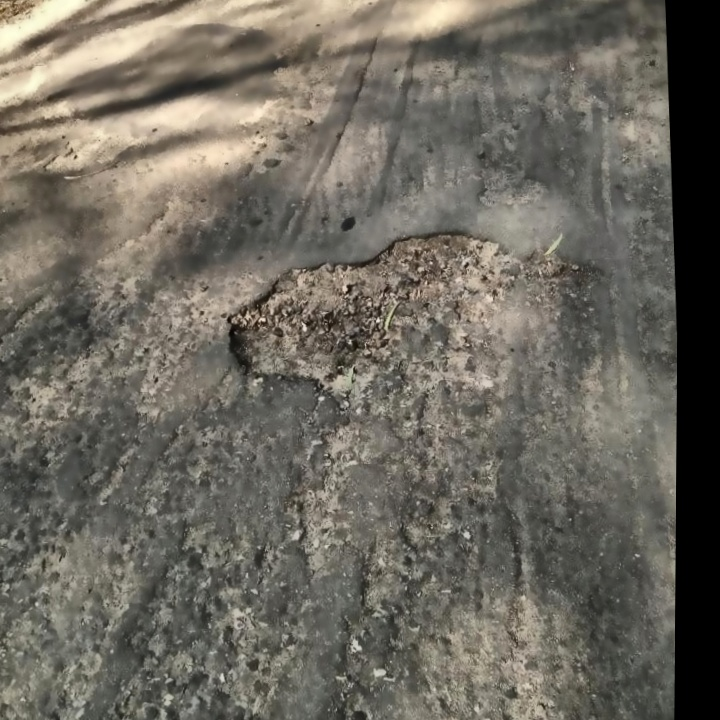pothole: (219, 221, 531, 415)
